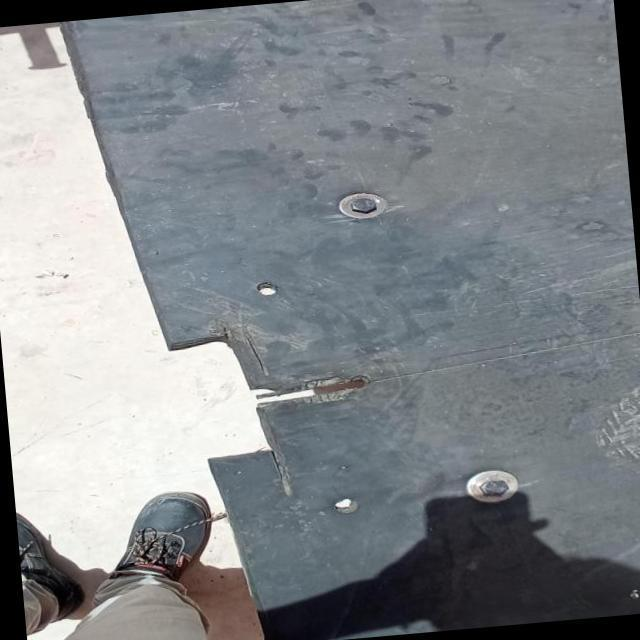Hole: (330, 491, 368, 517), (248, 277, 283, 304)
Tear: (168, 328, 376, 491), (242, 333, 270, 377)
